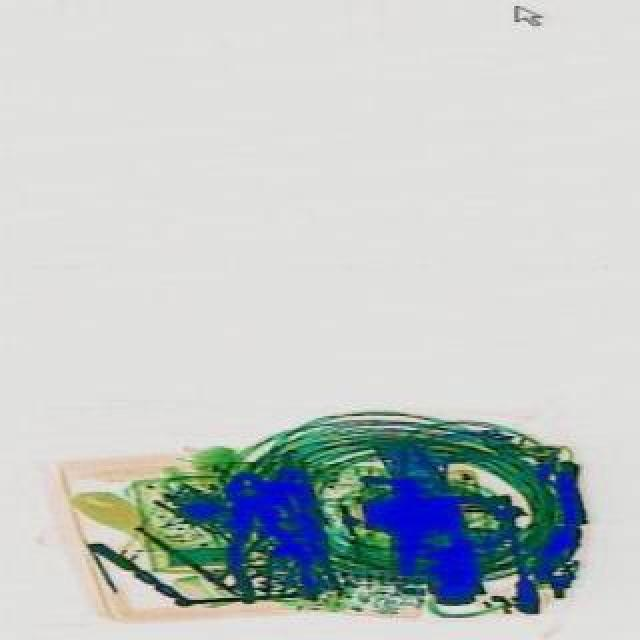wrench: (202, 460, 316, 614)
